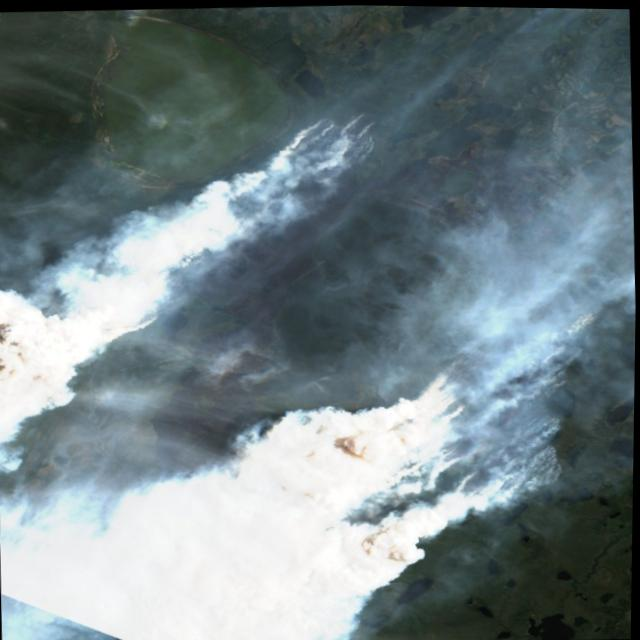fire: (0, 88, 639, 551)
